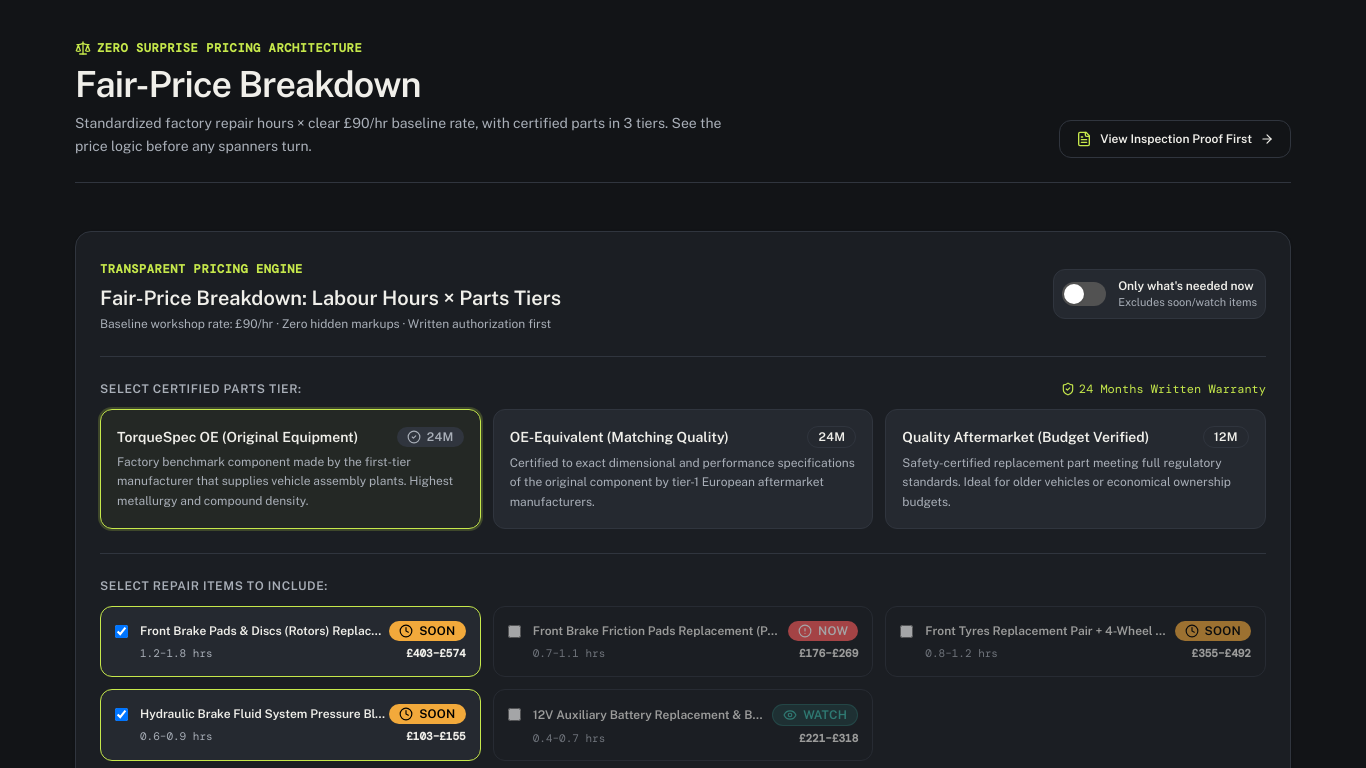
Test: Fair-Price Breakdown (Feature 04) › switches parts tier and updates warranty duration badge
Note: Click Aftermarket tier
What coordinates should you click on to do the following:
click the button "Quality Aftermarket"
I would click on:
 (1076, 469)
Its box is [885,408,1266,529].
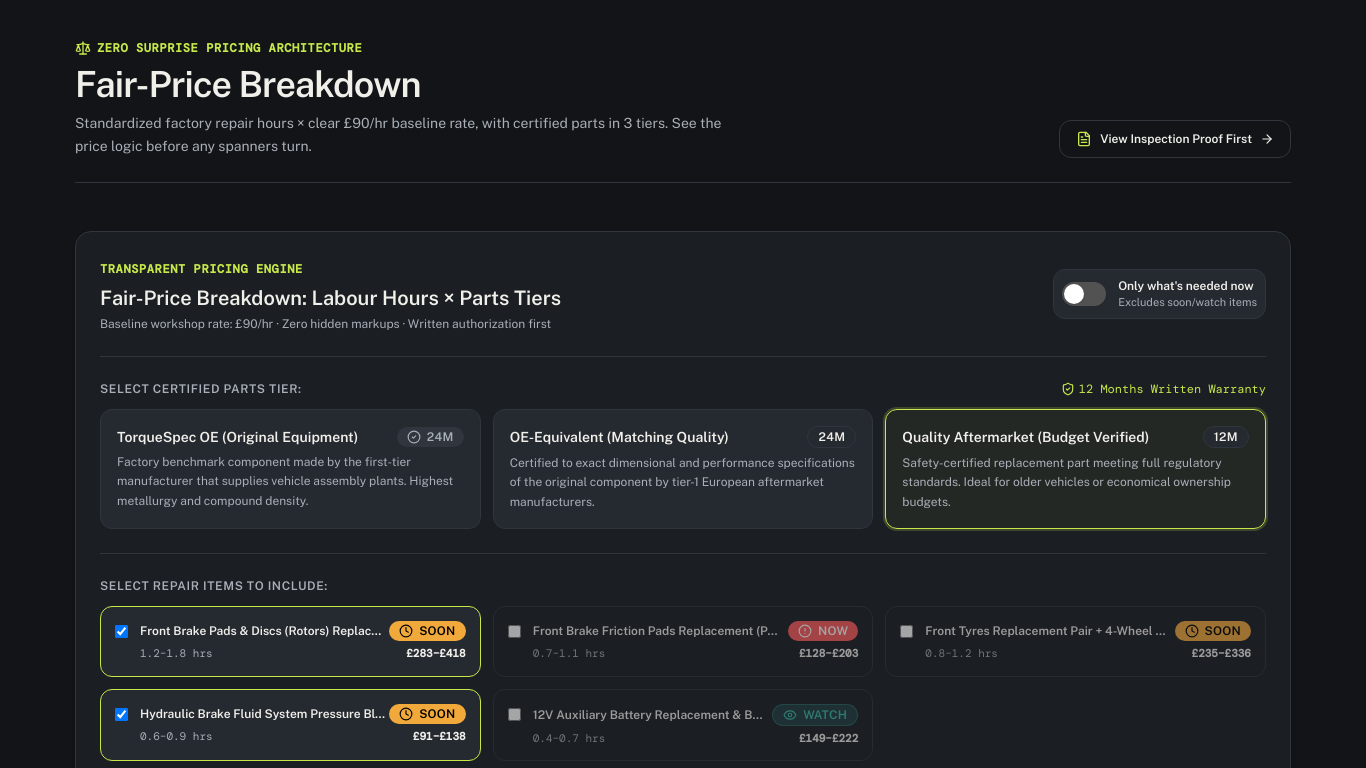
Result: the text "12 Months Written Warranty" is shown at [1061,380,1266,396]
